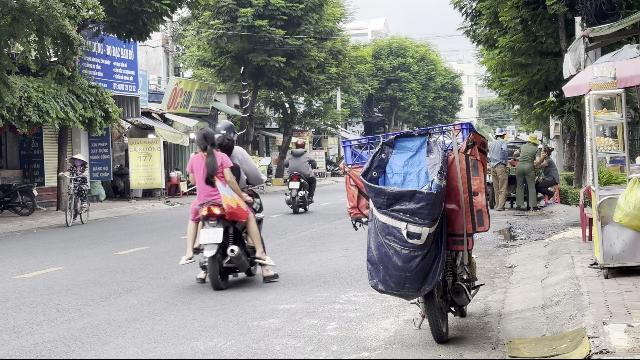helmet: (212, 120, 240, 142)
licenseplate: (199, 228, 223, 244)
motorcyclist: (178, 118, 272, 290)
nohelmet: (192, 128, 215, 152)
